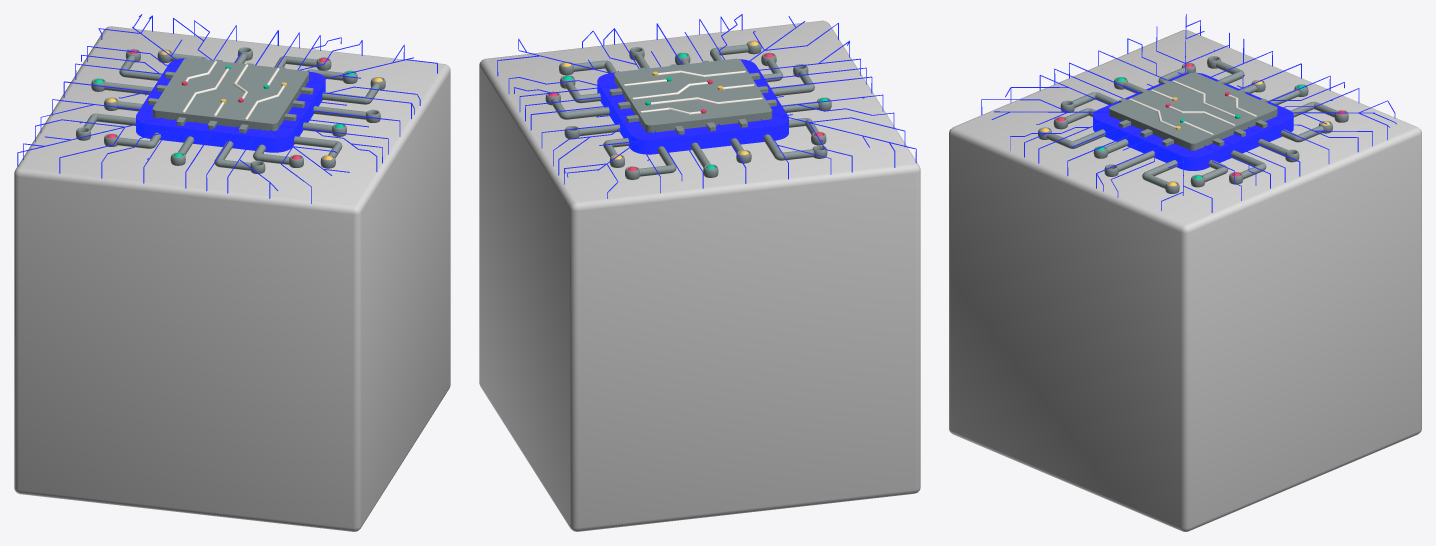
Rendered from cubed-transformed.glb.
3 renders of one model, left to right at view 1: azimuth 30°, elevation 25°; view 2: azimuth 150°, elevation 25°; view 3: azimuth 270°, elevation 25°, orthographic. The views are drawn at different scales.
Visible parts, largest first — view 1: Glass, Plane.004, Stylized Spline; view 2: Glass, Plane.004, Stylized Spline; view 3: Glass, Plane.004, Stylized Spline.
Part boxes in pixels (x1,y1,x2,y2): Glass: (14, 26, 450, 531); Plane.004: (76, 47, 385, 173); Stylized Spline: (17, 14, 437, 203); Glass: (479, 20, 920, 531); Plane.004: (545, 40, 831, 179); Stylized Spline: (497, 14, 916, 198); Glass: (949, 30, 1421, 531); Plane.004: (1038, 56, 1348, 193); Stylized Spline: (981, 14, 1396, 212).
Bounding box in the file's own units: 1.22 × 0.9385 × 1.22.
